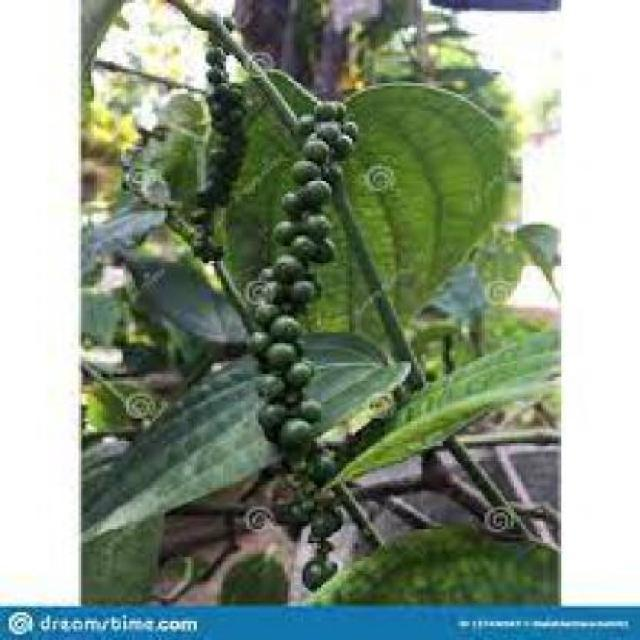UNRIPE: (265, 100, 349, 578), (174, 17, 241, 249)
